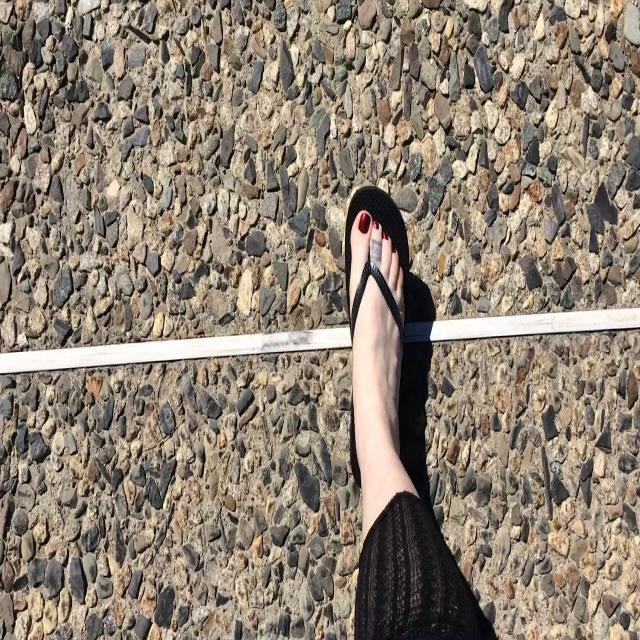No_Shoe: (348, 188, 405, 402)
